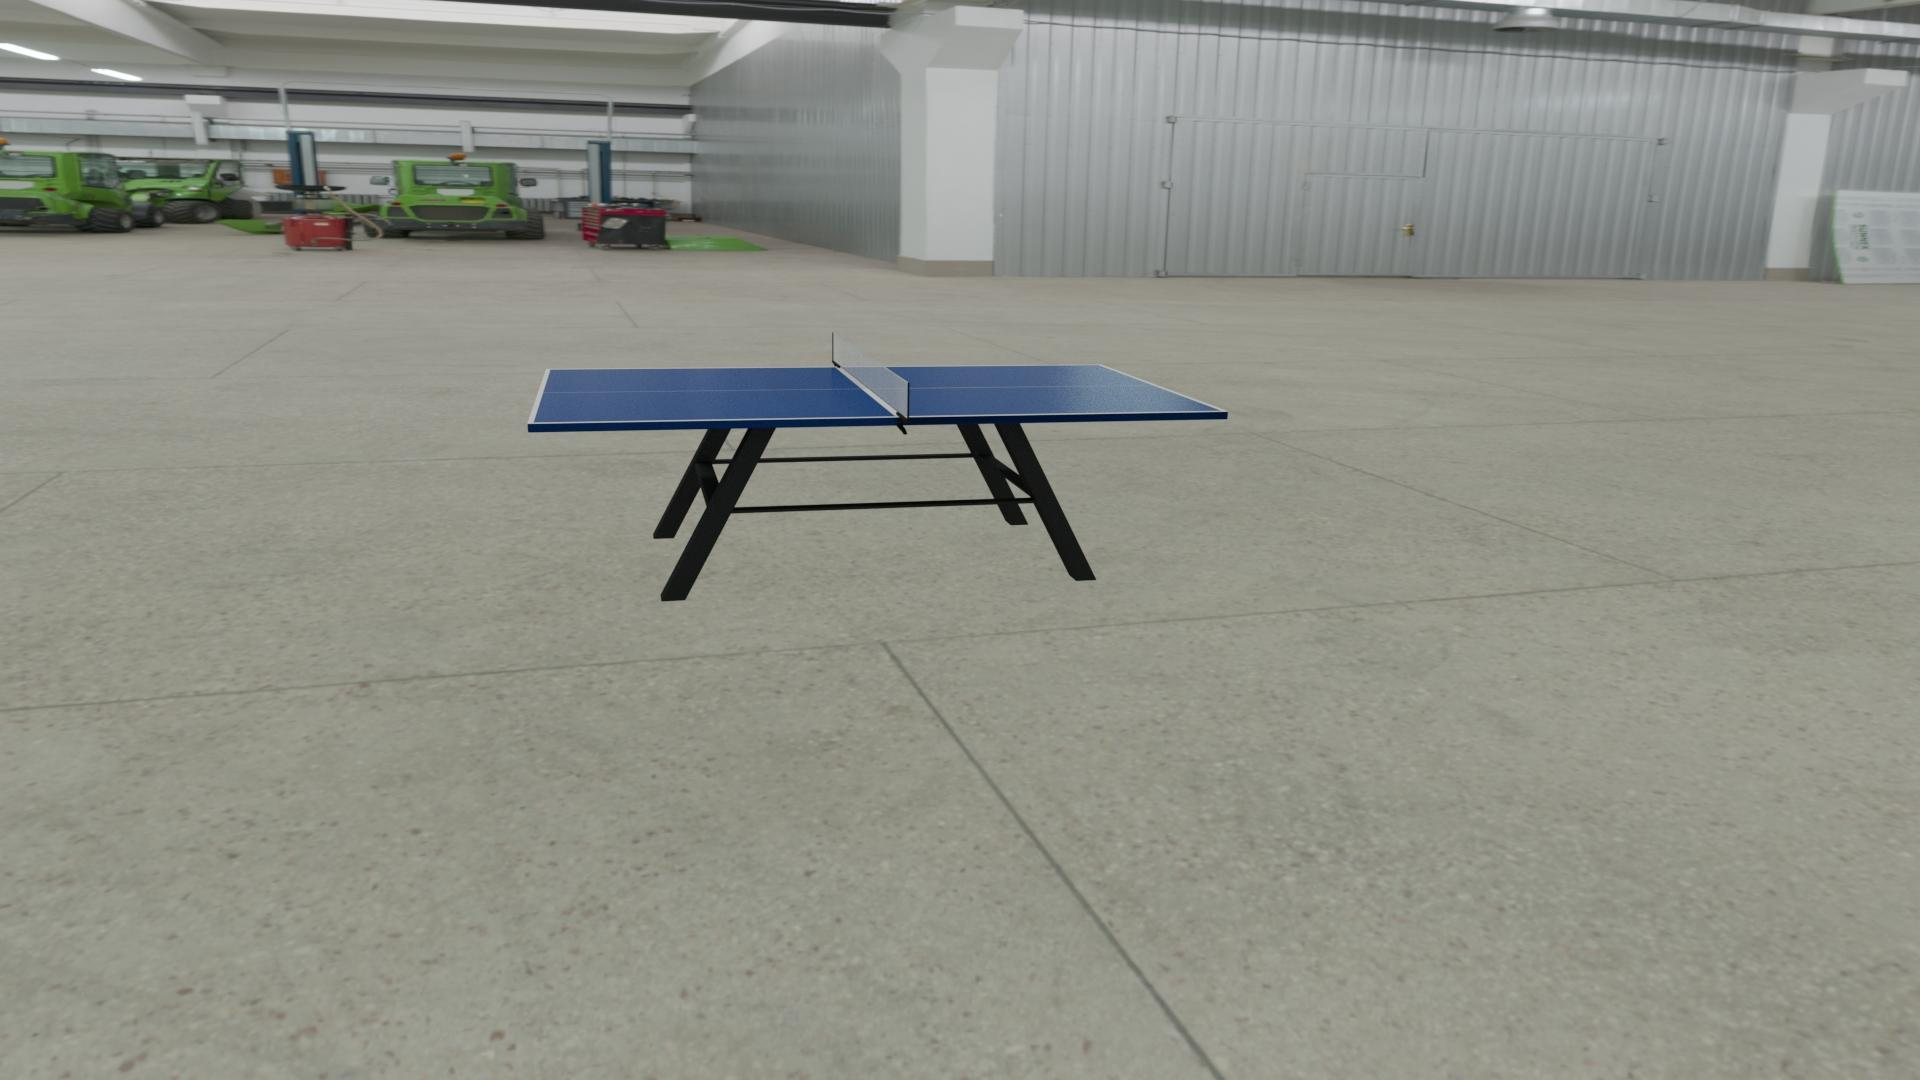table: (533, 365, 1222, 423)
